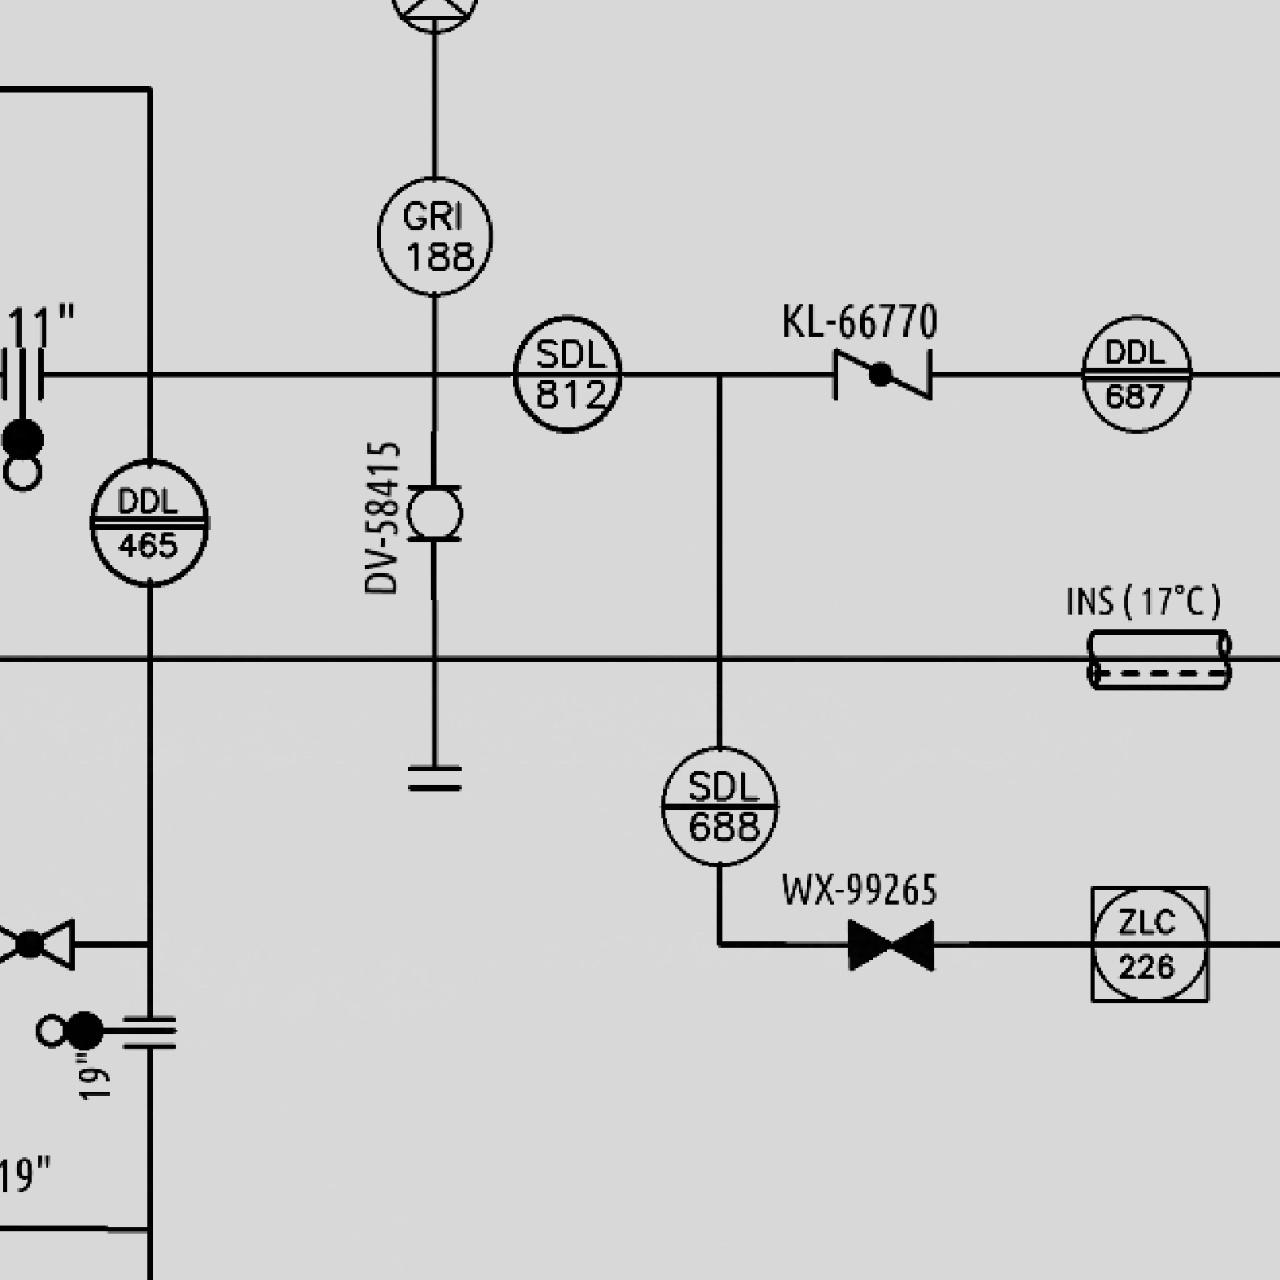Control-Panel: (80, 454, 217, 591), (1073, 210, 1199, 338)
